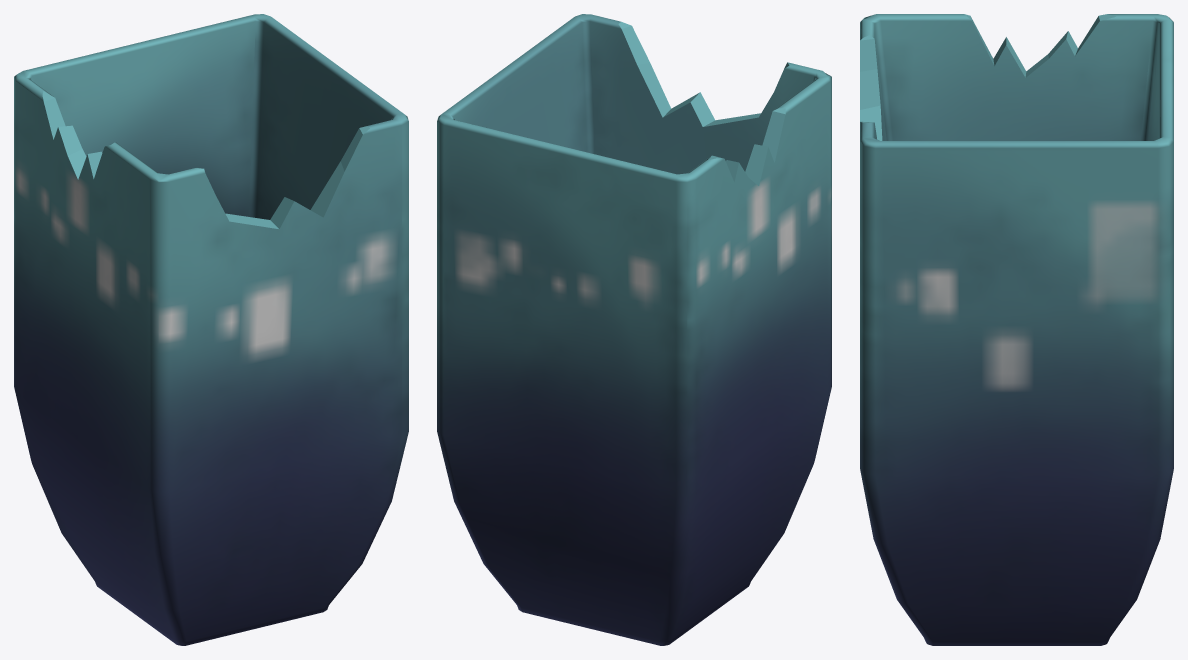
Rendered from Pot_2_break_1.fbx.
3 views of the same model, side by side, from view 1: azimuth 30°, elevation 25°; view 2: azimuth 150°, elevation 25°; view 3: azimuth 270°, elevation 25° (orthographic). The views are drawn at different scales.
Parts seen in each view (by area): view 1: Pot_2_break_1; view 2: Pot_2_break_1; view 3: Pot_2_break_1.
Boxes of the visible parts, <box> form: Pot_2_break_1: <box>14,14,408,645</box>; Pot_2_break_1: <box>437,14,831,645</box>; Pot_2_break_1: <box>860,14,1173,645</box>.
Bounding box in the file's own units: 37.02 × 69.12 × 37.02.
